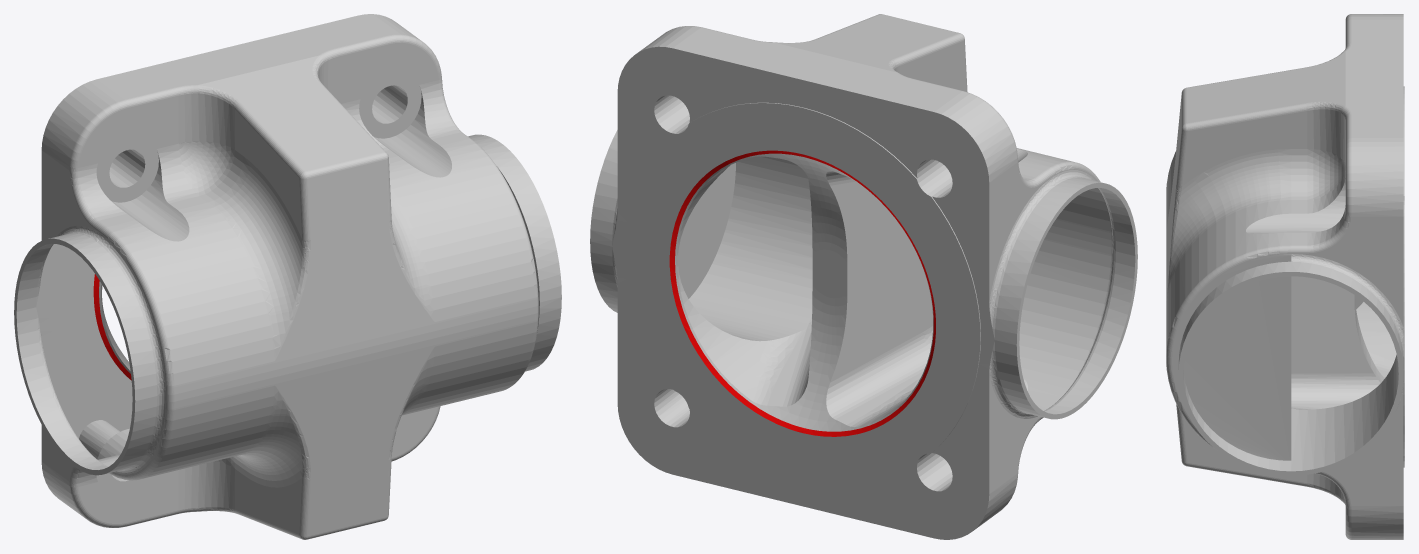
File: C6L_VDSTD_3_0_stp_7_33_34_35.obj
3 views of the same model, side by side, from view 1: azimuth 30°, elevation 25°; view 2: azimuth 150°, elevation 25°; view 3: azimuth 270°, elevation 25° (orthographic). The views are drawn at different scales.
Parts seen in each view (by area): view 1: Object1; view 2: Object1; view 3: Object1.
Boxes of the visible parts, x1=… form: Object1: x1=14, y1=14, x2=561, y2=539; Object1: x1=590, y1=14, x2=1137, y2=539; Object1: x1=1166, y1=14, x2=1404, y2=539.
Bounding box in the file's own units: 155 × 148 × 80.76.
